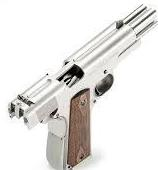gun: (1, 1, 158, 170)
